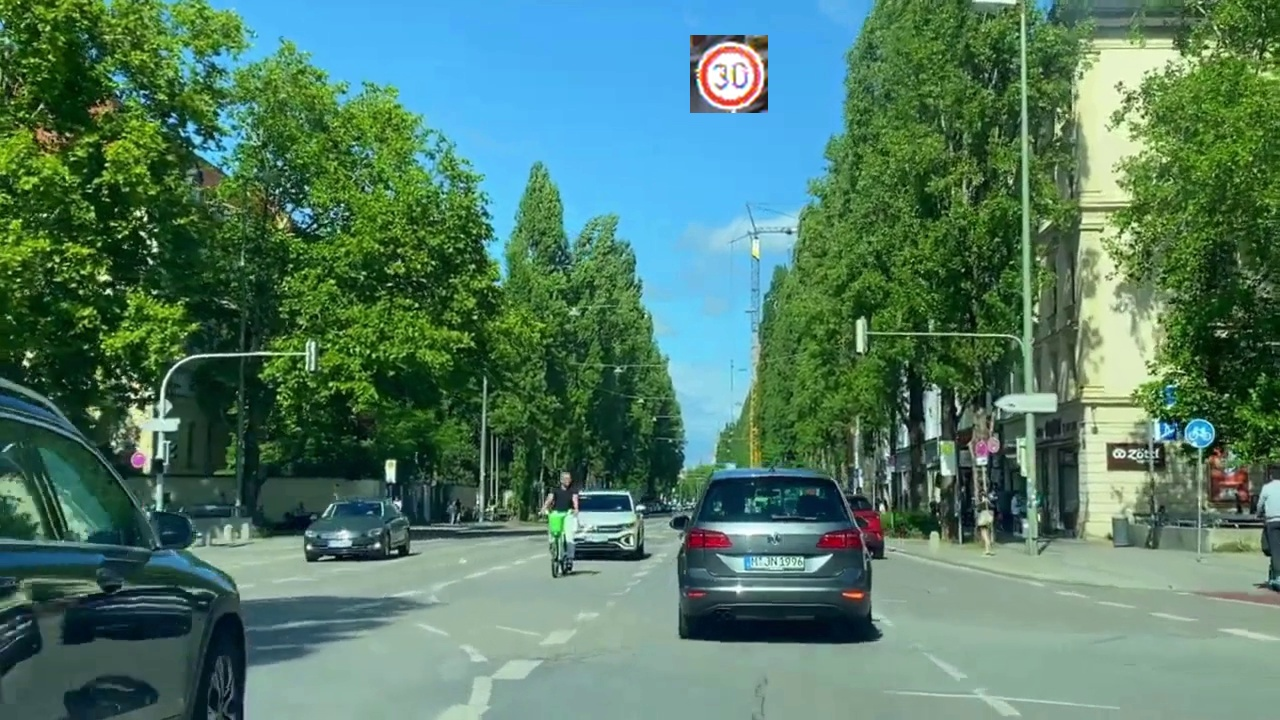Speed 30: (690, 35, 768, 113)
